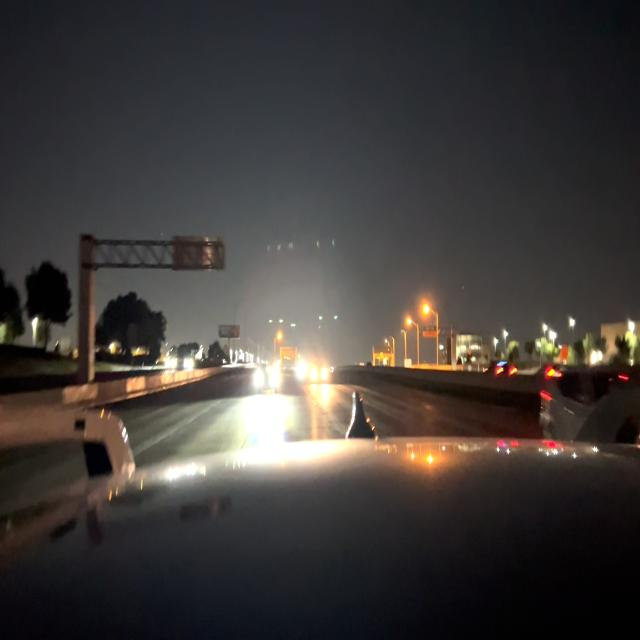back-of-sign: (174, 234, 224, 275)
